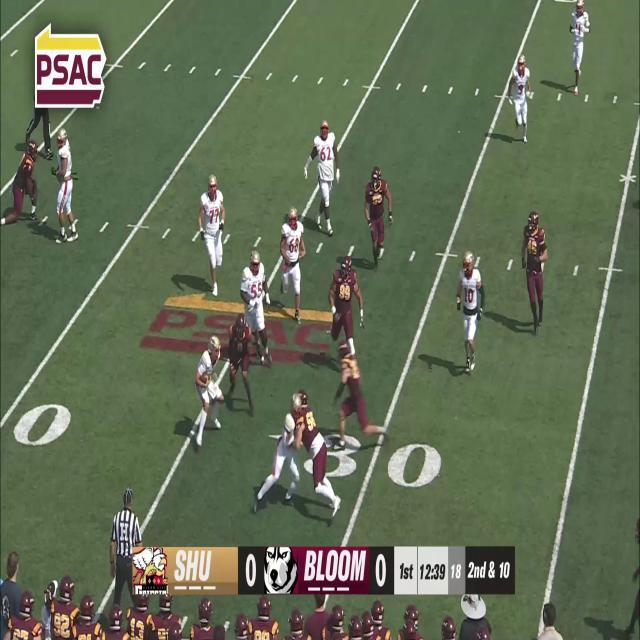football: (200, 372, 210, 384)
